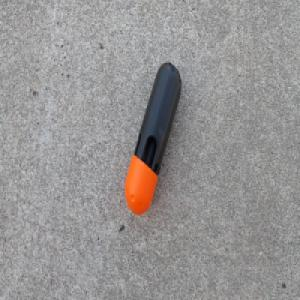PlasticPart: (124, 59, 182, 214)
